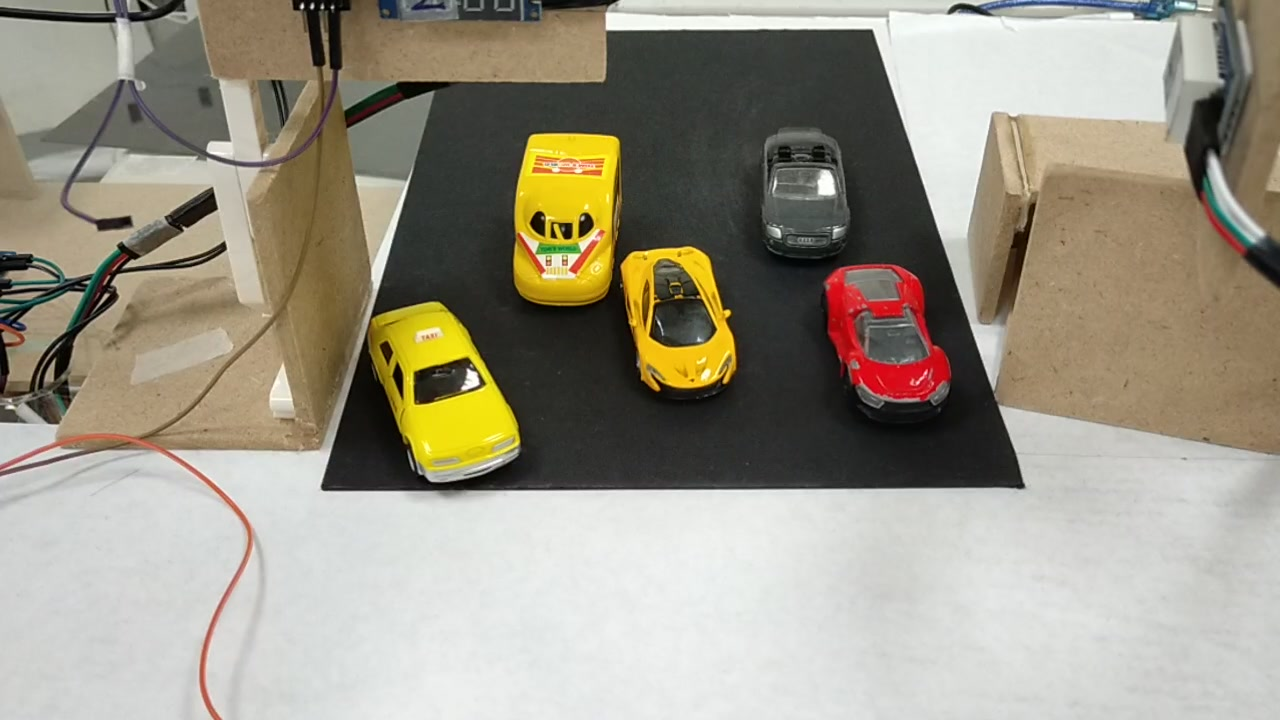car: (360, 310, 522, 486), (822, 268, 948, 415), (620, 248, 733, 397), (755, 129, 848, 258)
